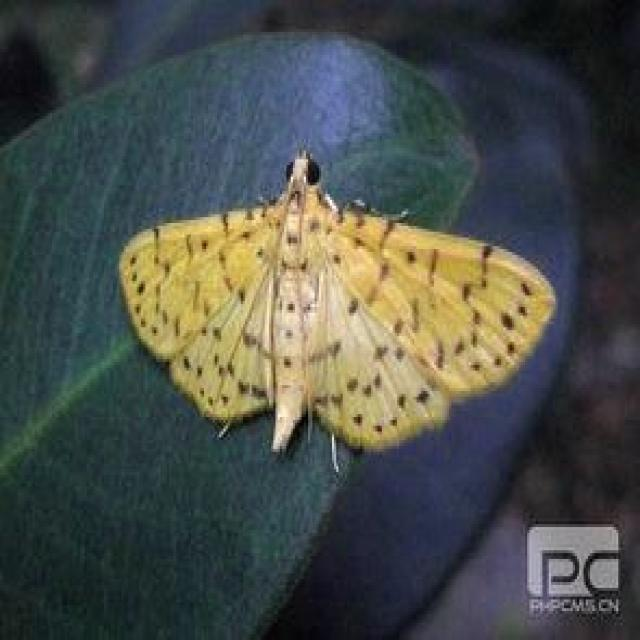peach borer: (117, 147, 562, 463)
